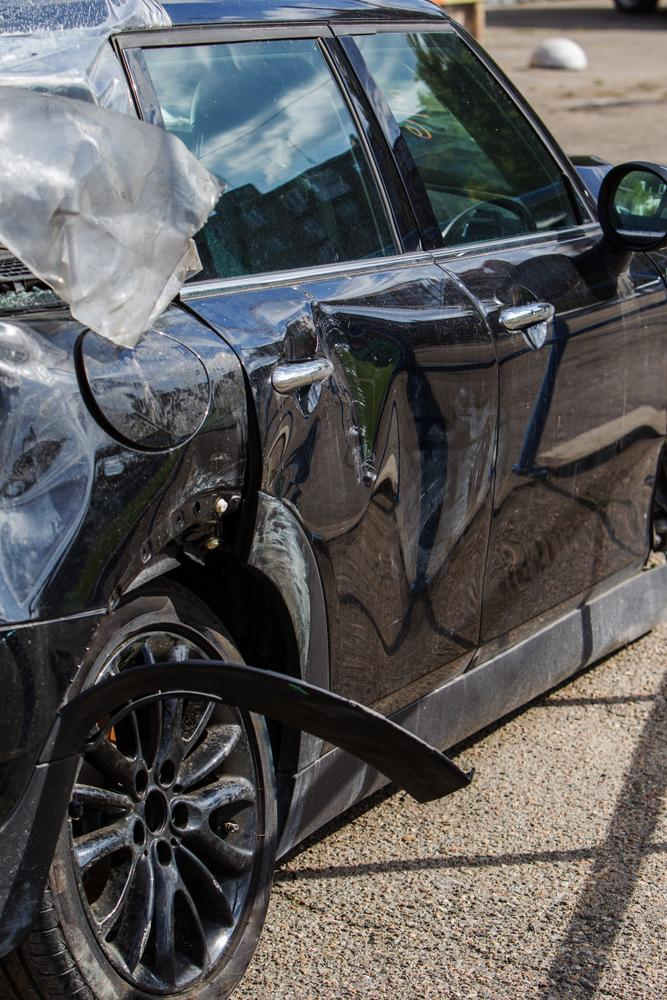dent: (288, 303, 443, 580), (0, 320, 87, 620)
scratch: (247, 494, 311, 679)
